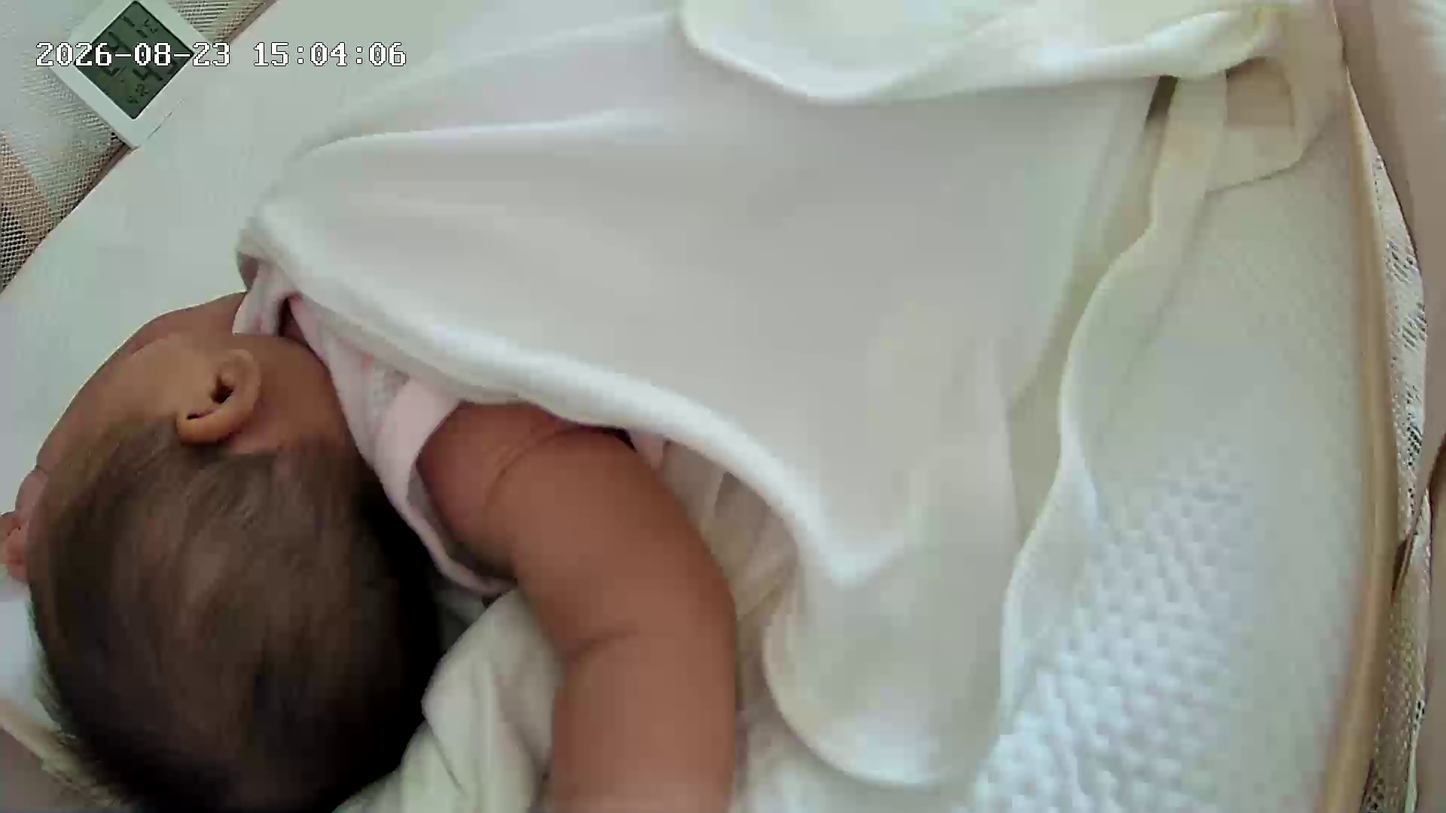baby: (0, 0, 854, 813), (0, 21, 713, 813)
baby_face: (15, 319, 446, 813)
